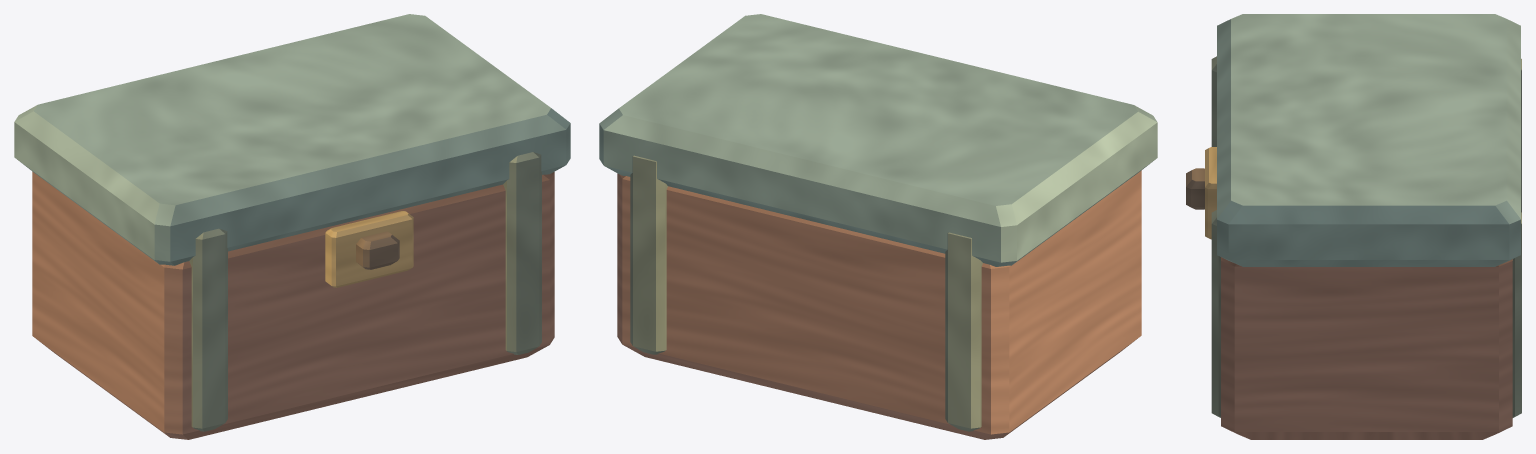
The model's file is furniture_harbor_chest.glb.
3 renders of one model, left to right at view 1: azimuth 30°, elevation 25°; view 2: azimuth 150°, elevation 25°; view 3: azimuth 270°, elevation 25°, orthographic.
Parts seen in each view (by area): view 1: Hafentruhe; view 2: Hafentruhe; view 3: Hafentruhe.
Boxes of the visible parts, x1,y1,x2,y2 form: Hafentruhe: (14,14,570,439); Hafentruhe: (599,14,1157,439); Hafentruhe: (1186,14,1521,439).
Size of the model in its own units: 1.14 by 0.631 by 0.795.
Materials: 2 (2 with a texture image).
